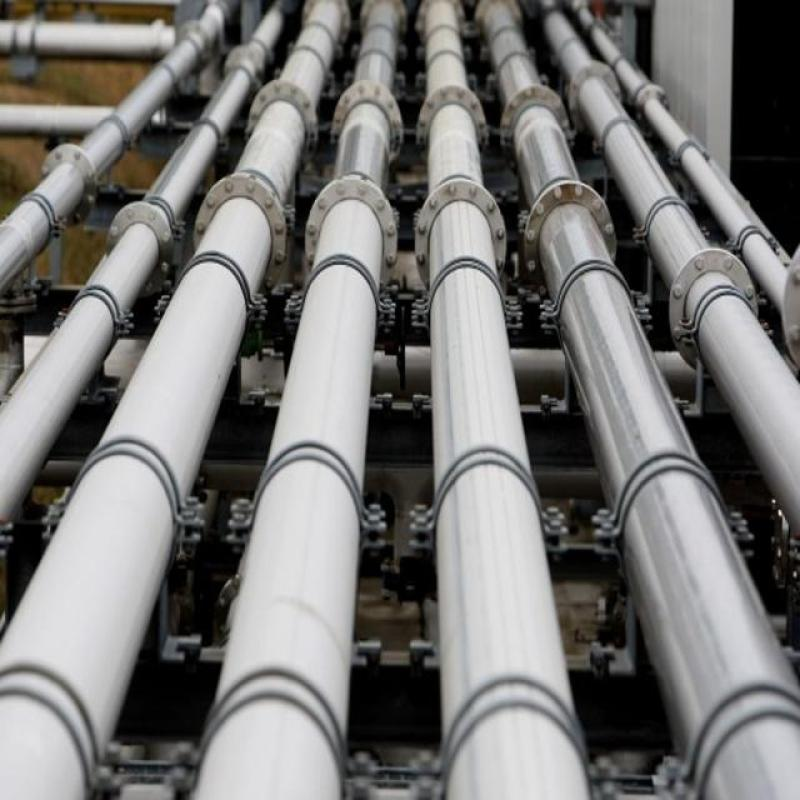Healthy: (2, 19, 798, 800)
